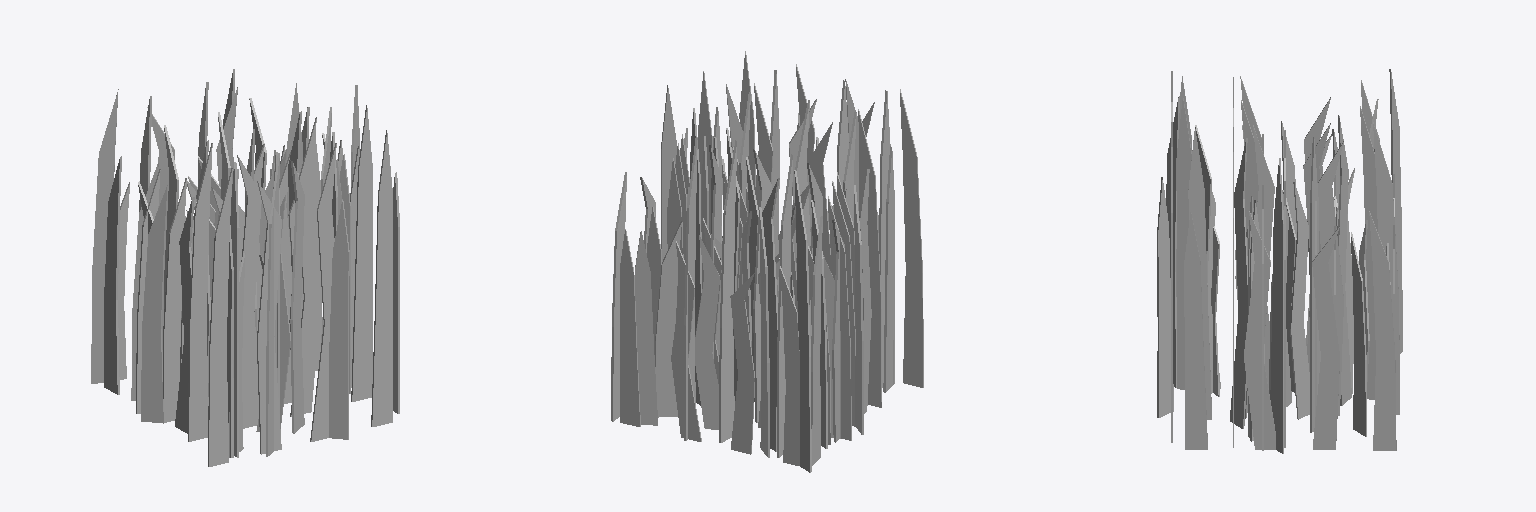
The model's file is grass.obj.
The picture shows the model from 3 angles: view 1: azimuth 30°, elevation 25°; view 2: azimuth 150°, elevation 25°; view 3: azimuth 270°, elevation 25°; orthographic projection.
Visible parts, largest first — view 1: Cube.019; view 2: Cube.019; view 3: Cube.019.
Boxes of the visible parts, x1,y1,x2,y2 form: Cube.019: [91, 69, 399, 466]; Cube.019: [611, 51, 923, 472]; Cube.019: [1157, 69, 1402, 453].
Bounding box in the file's own units: 0.9644 × 1.28 × 0.97.